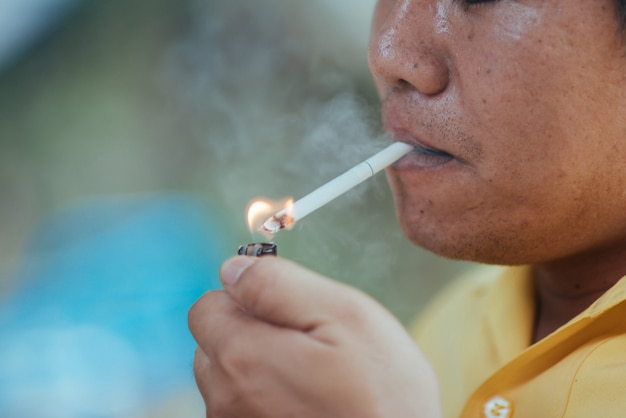cigarette: (259, 136, 416, 231)
